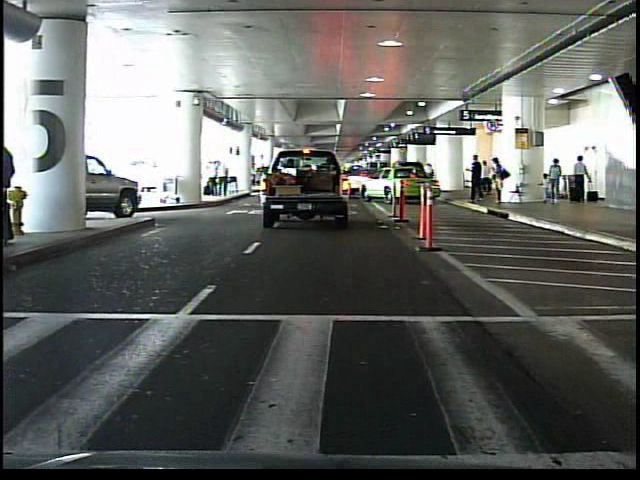person: (468, 154, 487, 206), (493, 157, 509, 206), (481, 157, 493, 200)
